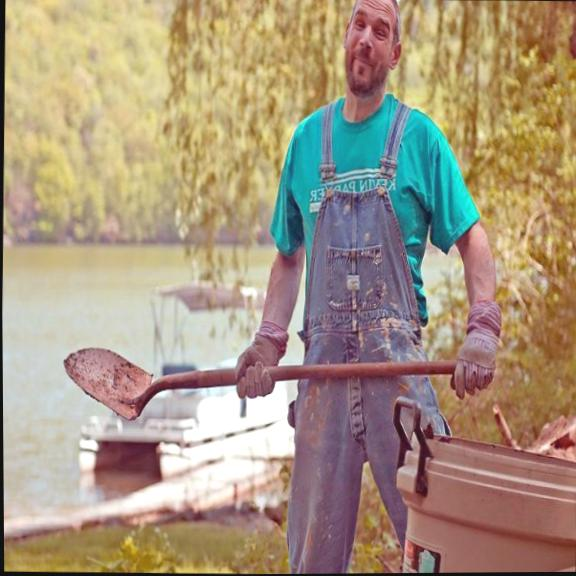no_safety_vest: (270, 89, 466, 347)
